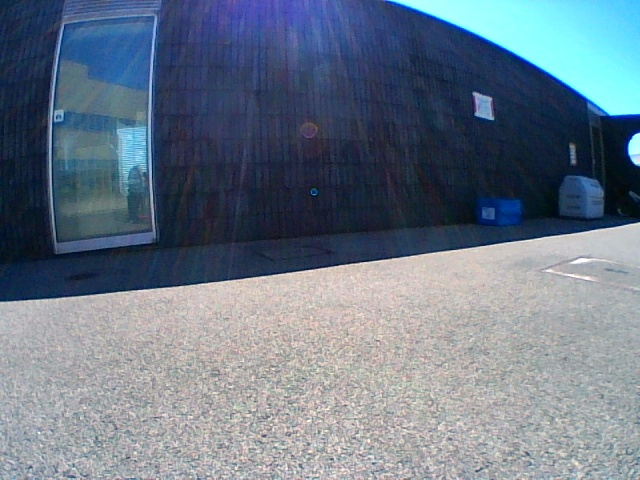blue_box: (480, 199, 520, 224)
tag: (482, 208, 495, 219)
